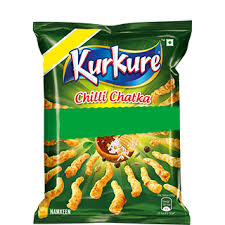kurkure: (67, 42, 162, 92)
plastic: (36, 16, 194, 221)
